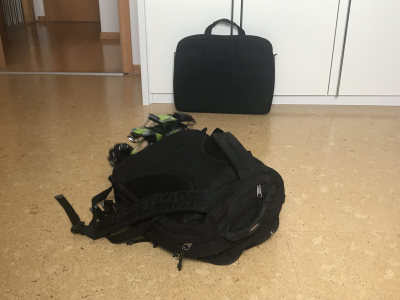remote control car: (104, 109, 196, 166)
